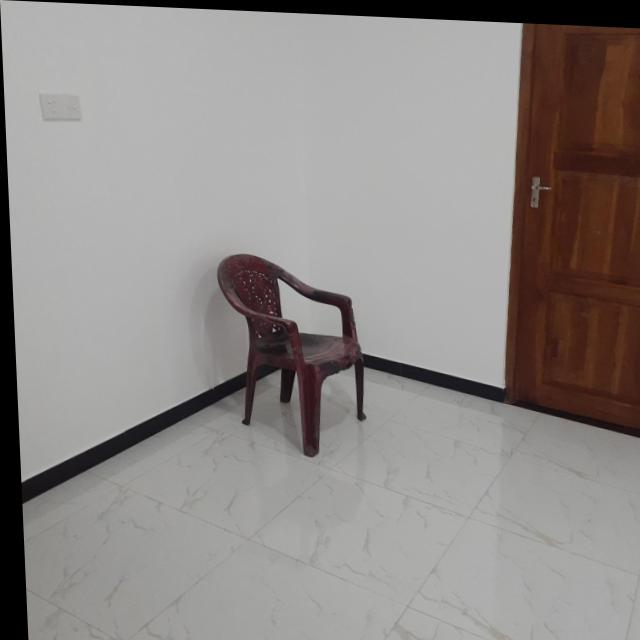Chair: (212, 248, 366, 459)
